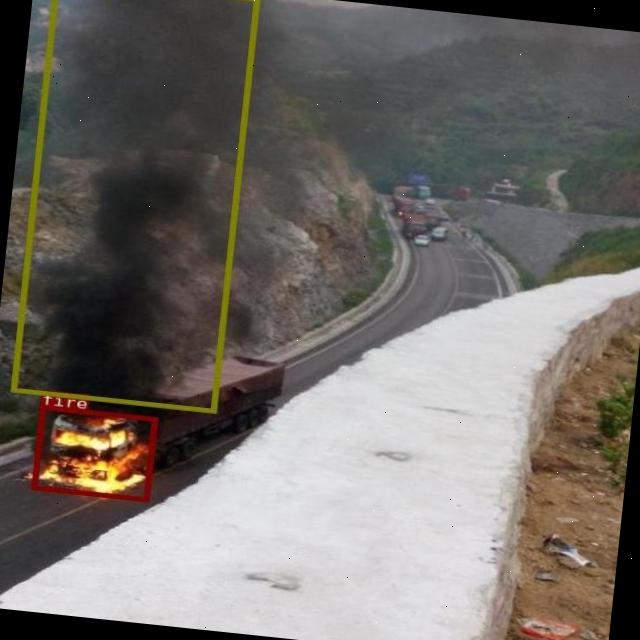fire: (30, 404, 156, 500)
smoke: (8, 0, 257, 412)
